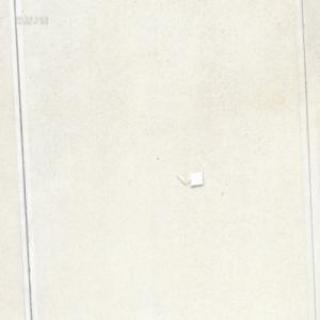LuggageTagtrack_idkeyframe: (175, 169, 203, 186)
